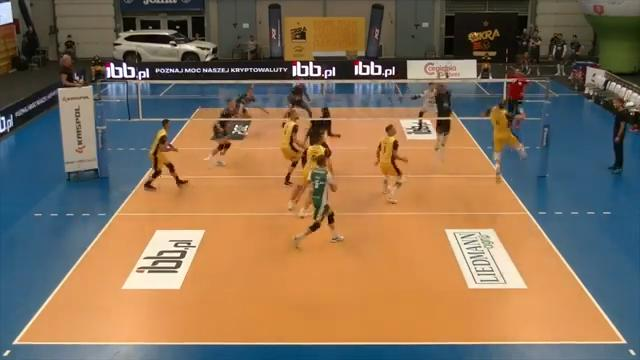Attack: (473, 94, 536, 182)
Block: (428, 62, 455, 167)
Player: (293, 155, 343, 247), (288, 133, 330, 210), (144, 119, 187, 189), (375, 124, 407, 203), (205, 99, 236, 165), (281, 112, 304, 185), (305, 107, 340, 141), (411, 83, 436, 130), (287, 83, 312, 117), (235, 86, 255, 117)
